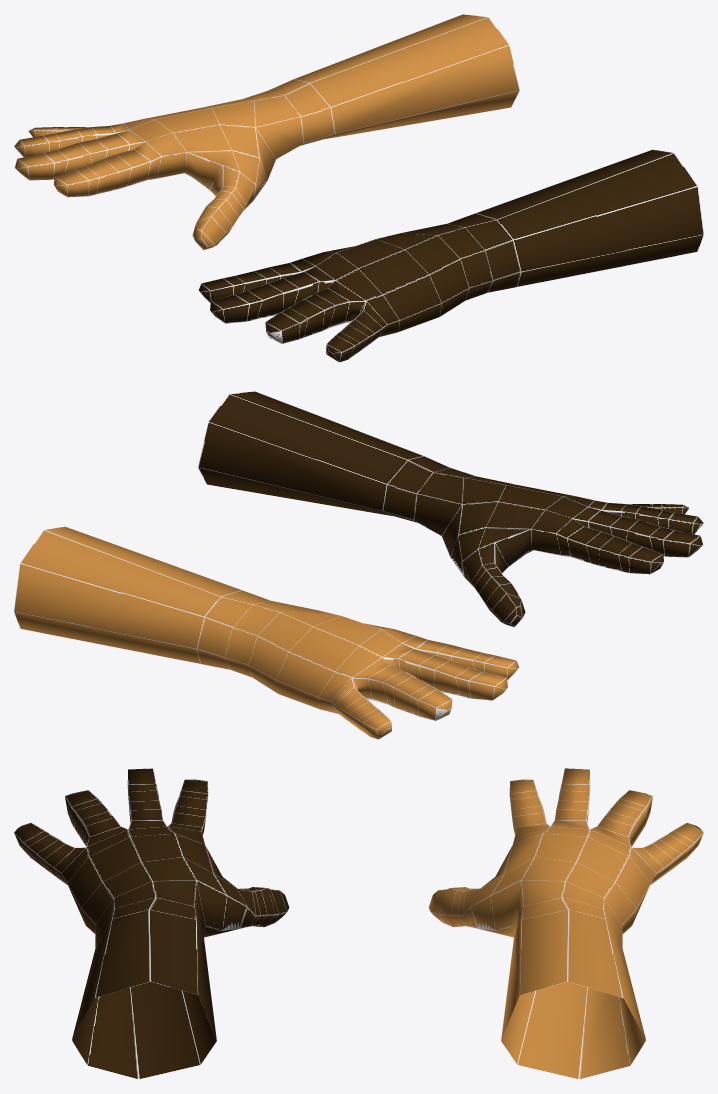
Rendered from manos_scene.fbx.
The picture shows the model from 3 angles, top to bottom: view 1: azimuth 30°, elevation 25°; view 2: azimuth 150°, elevation 25°; view 3: azimuth 270°, elevation 25°; orthographic projection. The views are drawn at different scales.
Parts seen in each view (by area): view 1: Mano1, Mano; view 2: Mano, Mano1; view 3: Mano, Mano1.
Part boxes in pixels (bbox=[...]): Mano1: bbox=[198, 149, 703, 362]; Mano: bbox=[14, 14, 519, 250]; Mano: bbox=[14, 526, 519, 739]; Mano1: bbox=[198, 391, 703, 627]; Mano: bbox=[428, 768, 703, 1079]; Mano1: bbox=[14, 768, 289, 1079].
Size of the model in its own units: 307 by 68.21 by 347.
2 materials, 2 textured.
